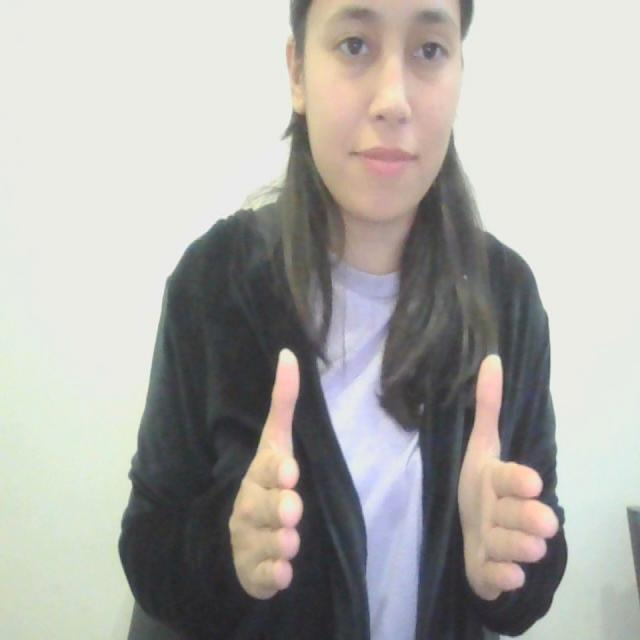Nasil: (222, 336, 560, 619)
